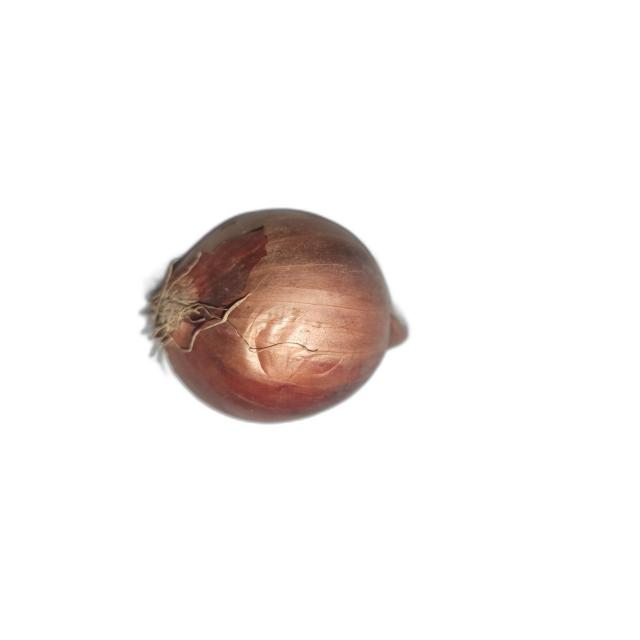onion: (146, 207, 410, 425)
